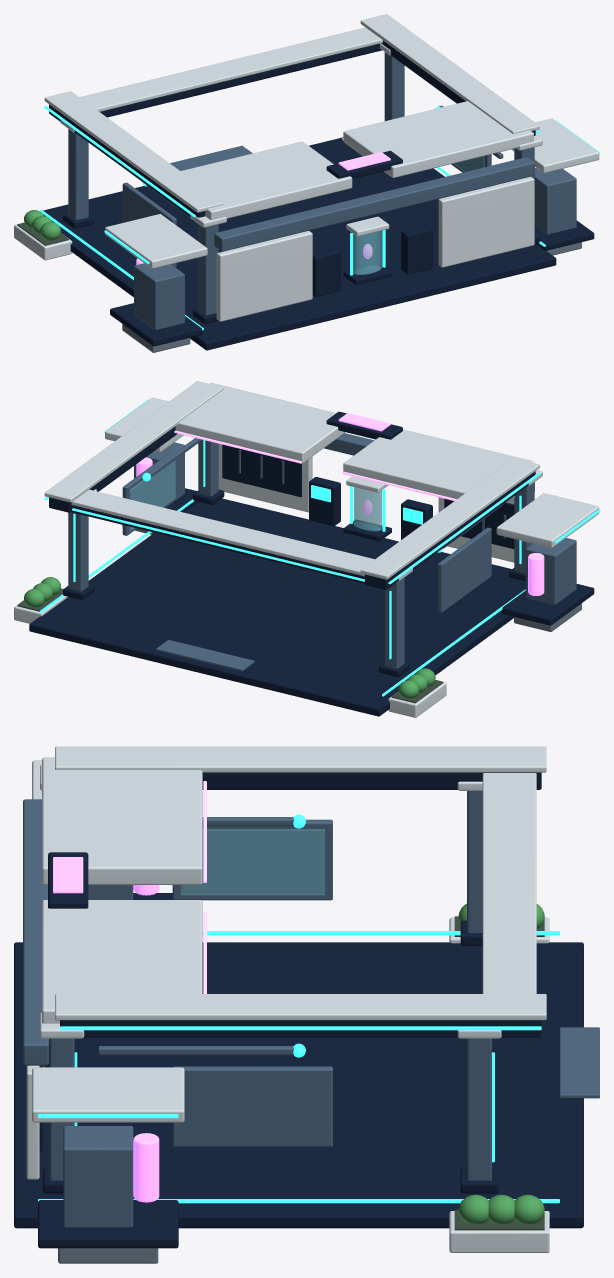
Rendered from LAB_Tier_3.glb.
The picture shows the model from 3 angles, top to bottom: view 1: azimuth 30°, elevation 25°; view 2: azimuth 150°, elevation 25°; view 3: azimuth 270°, elevation 25°; orthographic projection. The views are drawn at different scales.
Visible parts, largest first — view 1: LAB_Floor_Fascia.002, LAB_Roof_Back_R.002, LAB_Roof_Back_L.002, LAB_Wall_Straight_R.002, LAB_Wall_Straight_L.002, LAB_Back_Header.002, LAB_Entrance_HeaderCap.002, LAB_Roof_BeamCap_L.002, LAB_Roof_BeamCap_R.002, LAB_Wing_Roof_L, LAB_Wing_Equipment_L, LAB_Wing_Equipment_R (+21 smaller); view 2: LAB_Floor_Fascia.002, LAB_Roof_Back_R.002, LAB_Roof_Back_L.002, LAB_Entrance_HeaderCap.002, LAB_Roof_BeamCap_L.002, LAB_Roof_BeamCap_R.002, LAB_Wing_Roof_L, LAB_Window_Frame_L.002, LAB_Wall_Inset_R.002, LAB_Wing_Equipment_L, LAB_Window_Frame_R.002, LAB_Entrance_Header.002 (+28 smaller); view 3: LAB_Floor_Fascia.002, LAB_Roof_Back_L.002, LAB_Roof_Back_R.002, LAB_Roof_BeamCap_R.002, LAB_Roof_BeamCap_L.002, LAB_Window_Frame_R.002, LAB_Entrance_HeaderCap.002, LAB_Window_Frame_L.002, LAB_GlassPanel_L.002, LAB_Wing_Roof_R, LAB_Wing_Equipment_R, LAB_Roof_Beam_R.002 (+25 smaller).
Boxes of the visible parts, x1=… form: LAB_Floor_Fascia.002: x1=43, y1=137, x2=556, y2=350; LAB_Roof_Back_R.002: x1=343, y1=101, x2=533, y2=177; LAB_Roof_Back_L.002: x1=180, y1=141, x2=352, y2=219; LAB_Wall_Straight_R.002: x1=438, y1=176, x2=534, y2=267; LAB_Wall_Straight_L.002: x1=216, y1=231, x2=312, y2=321; LAB_Back_Header.002: x1=214, y1=157, x2=534, y2=251; LAB_Entrance_HeaderCap.002: x1=79, y1=27, x2=382, y2=111; LAB_Roof_BeamCap_L.002: x1=44, y1=91, x2=223, y2=212; LAB_Roof_BeamCap_R.002: x1=360, y1=14, x2=539, y2=133; LAB_Wing_Roof_L: x1=105, y1=214, x2=207, y2=268; LAB_Wing_Equipment_L: x1=134, y1=263, x2=184, y2=330; LAB_Wing_Equipment_R: x1=534, y1=168, x2=576, y2=234; LAB_Floor_Fascia.002: x1=29, y1=498, x2=525, y2=716; LAB_Roof_Back_R.002: x1=175, y1=382, x2=345, y2=463; LAB_Roof_Back_L.002: x1=343, y1=429, x2=533, y2=498; LAB_Entrance_HeaderCap.002: x1=71, y1=489, x2=374, y2=576; LAB_Roof_BeamCap_L.002: x1=360, y1=458, x2=539, y2=579; LAB_Roof_BeamCap_R.002: x1=44, y1=381, x2=223, y2=502; LAB_Wing_Roof_L: x1=496, y1=493, x2=599, y2=547; LAB_Window_Frame_L.002: x1=437, y1=527, x2=491, y2=612; LAB_Wall_Inset_R.002: x1=222, y1=444, x2=301, y2=497; LAB_Wing_Equipment_L: x1=525, y1=538, x2=576, y2=604; LAB_Window_Frame_R.002: x1=122, y1=450, x2=176, y2=535; LAB_Entrance_Header.002: x1=71, y1=505, x2=364, y2=583; LAB_Floor_Fascia.002: x1=14, y1=942, x2=583, y2=1228; LAB_Roof_Back_L.002: x1=42, y1=757, x2=202, y2=884; LAB_Roof_Back_R.002: x1=42, y1=900, x2=202, y2=1023; LAB_Roof_BeamCap_R.002: x1=55, y1=994, x2=546, y2=1020; LAB_Roof_BeamCap_L.002: x1=55, y1=746, x2=546, y2=772; LAB_Window_Frame_R.002: x1=172, y1=1066, x2=332, y2=1146; LAB_Entrance_HeaderCap.002: x1=482, y1=773, x2=536, y2=993; LAB_Window_Frame_L.002: x1=172, y1=819, x2=332, y2=900; LAB_GlassPanel_L.002: x1=180, y1=829, x2=324, y2=895; LAB_Wing_Roof_R: x1=32, y1=1067, x2=184, y2=1122; LAB_Wing_Equipment_R: x1=63, y1=1126, x2=133, y2=1227; LAB_Roof_Beam_R.002: x1=60, y1=1020, x2=541, y2=1037.
Bounding box in the file's own units: 41.78 × 12.22 × 29.2.
